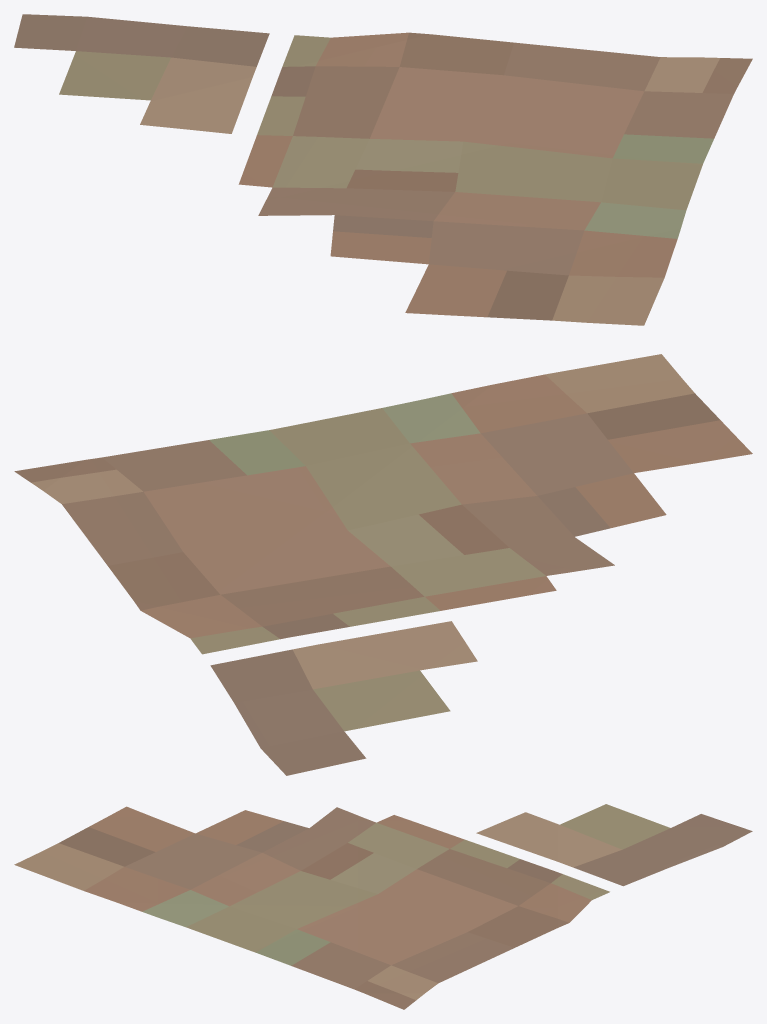
File: farm_-36_-39_soil.glb
The picture shows the model from 3 angles, top to bottom: view 1: azimuth 30°, elevation 25°; view 2: azimuth 150°, elevation 25°; view 3: azimuth 270°, elevation 25°; orthographic projection. The views are drawn at different scales.
Visible parts, largest first — view 1: geometry_0; view 2: geometry_0; view 3: geometry_0.
Boxes of the visible parts, box(x1,y1,x2,y2) form: geometry_0: box(14, 14, 752, 325); geometry_0: box(14, 354, 752, 775); geometry_0: box(14, 804, 752, 1009).
Size of the model in its own units: 194 by 5.93 by 296.
